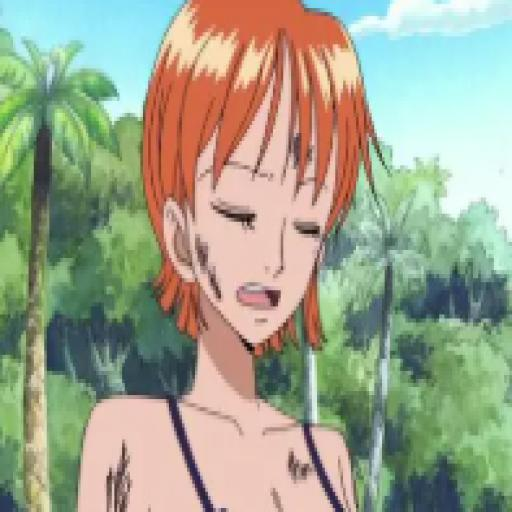Nami: (63, 2, 388, 512)
